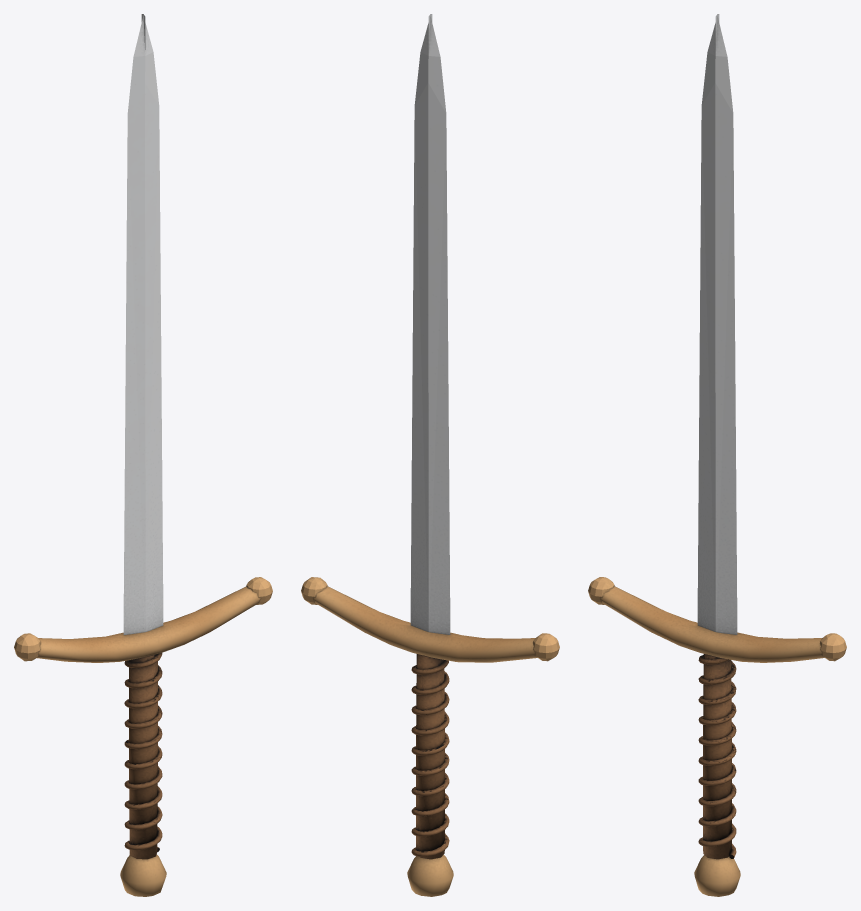
File: arma_espada_longa_refinada.glb
The picture shows the model from 3 angles, left to right: view 1: azimuth 30°, elevation 25°; view 2: azimuth 150°, elevation 25°; view 3: azimuth 330°, elevation 25°; orthographic projection.
Parts seen in each view (by area): view 1: arma_espada_longa_refinada; view 2: arma_espada_longa_refinada; view 3: arma_espada_longa_refinada.
Part boxes in pixels (x1,y1,x2,y2): arma_espada_longa_refinada: (14,14,272,896); arma_espada_longa_refinada: (301,14,559,896); arma_espada_longa_refinada: (588,14,846,896).
Size of the model in its own units: 0.376 by 1.24 by 0.06.
1 material, 1 textured.
